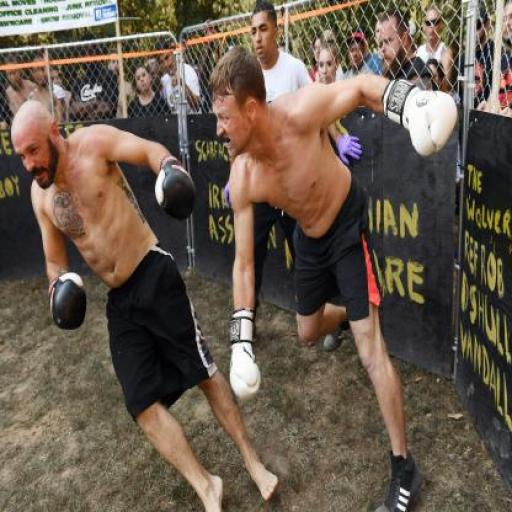Fighting: (2, 49, 453, 512)
